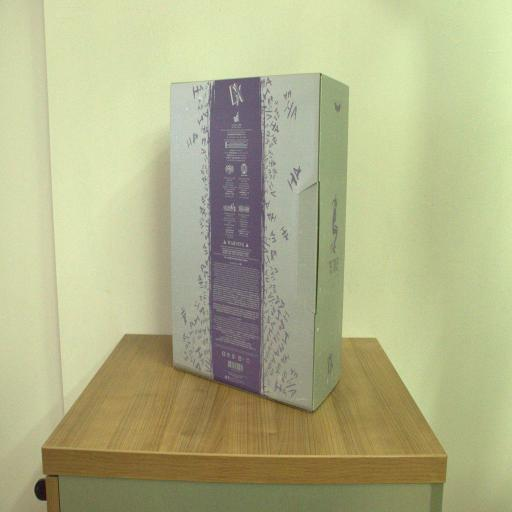Joker: (167, 74, 351, 424)
